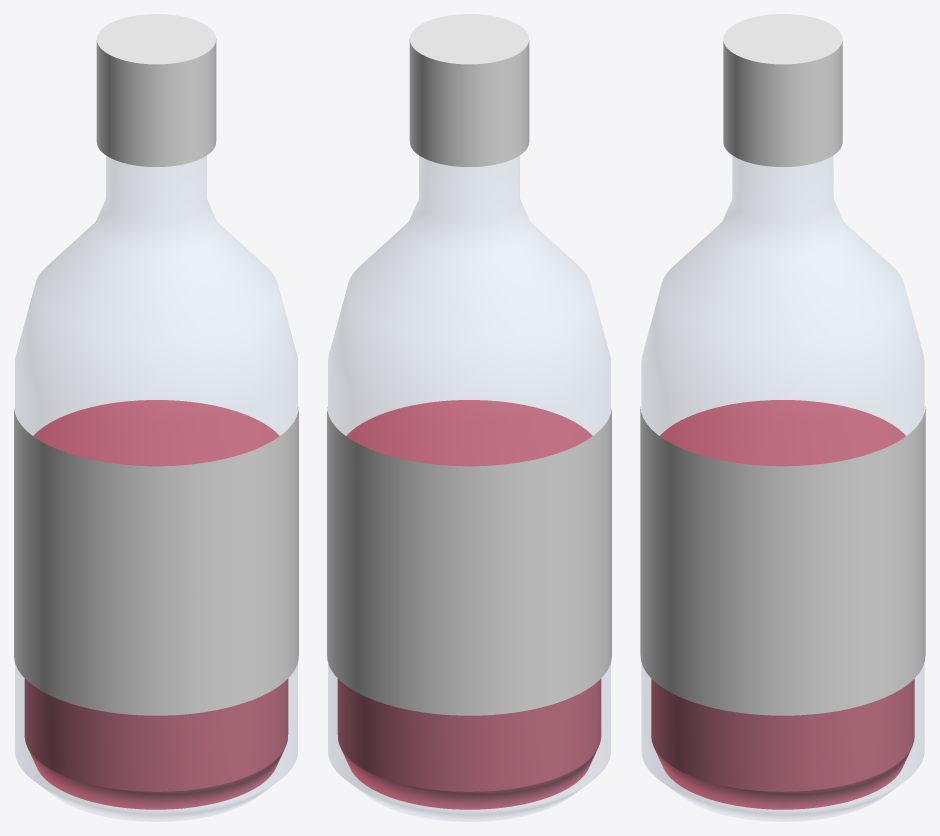
File: glass-bottle.glb
3 renders of one model, left to right at view 1: azimuth 30°, elevation 25°; view 2: azimuth 150°, elevation 25°; view 3: azimuth 270°, elevation 25°, orthographic.
Visible parts, largest first — view 1: body, label, liquid, cap; view 2: body, label, liquid, cap; view 3: body, label, liquid, cap.
Part boxes in pixels (box(x1,y1,x2,y2)): body: box(15, 156, 297, 821); label: box(14, 407, 298, 715); liquid: box(24, 400, 288, 809); cap: box(96, 14, 216, 166); body: box(328, 156, 610, 821); label: box(327, 407, 611, 715); liquid: box(337, 400, 601, 809); cap: box(409, 14, 529, 166); body: box(641, 156, 924, 821); label: box(640, 406, 925, 715); liquid: box(651, 400, 914, 809); cap: box(723, 14, 842, 166).
Size of the model in its own units: 0.5634 by 1.6 by 0.5634.
